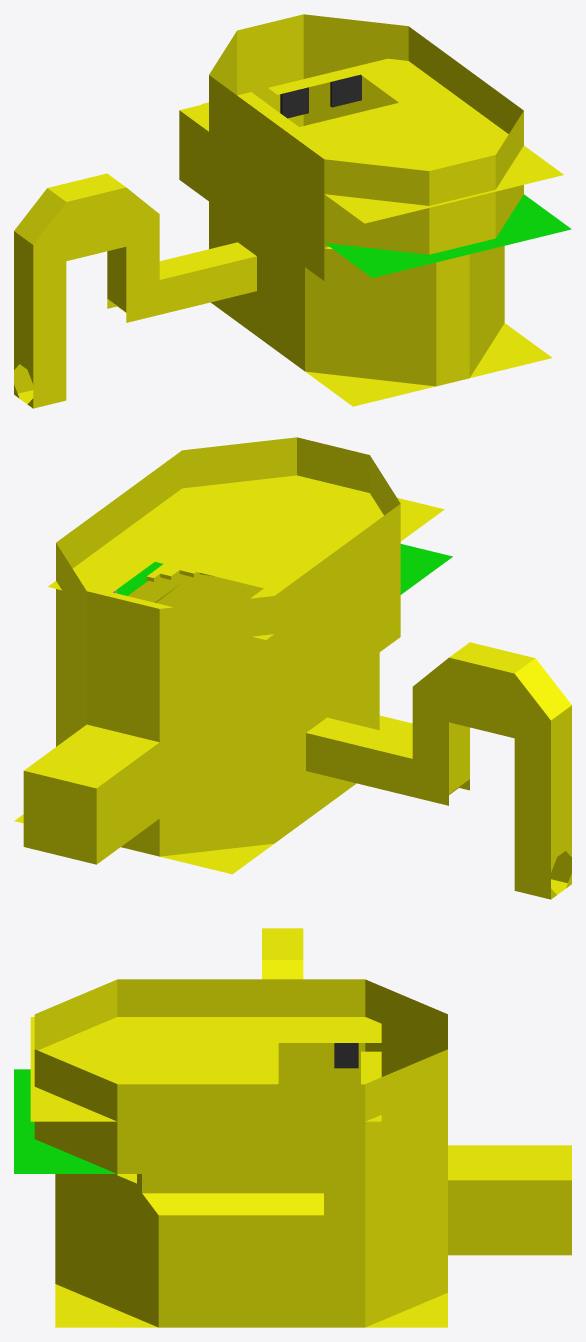
Rendered from ddd_segment7.0x0DE70.collision.obj.
3 views of the same model, one above another, from view 1: azimuth 30°, elevation 25°; view 2: azimuth 150°, elevation 25°; view 3: azimuth 270°, elevation 25° (orthographic). The views are drawn at different scales.
Parts seen in each view (by area): view 1: ddd_segment7_0DE70_normal, ddd_segment7_0DE70_grass, ddd_segment7_0DE70_fence; view 2: ddd_segment7_0DE70_normal, ddd_segment7_0DE70_grass; view 3: ddd_segment7_0DE70_normal, ddd_segment7_0DE70_grass, ddd_segment7_0DE70_fence.
Part boxes in pixels (left/top/right/bottom): ddd_segment7_0DE70_normal: left=14, top=14, right=563, bottom=408; ddd_segment7_0DE70_grass: left=325, top=194, right=571, bottom=277; ddd_segment7_0DE70_fence: left=280, top=74, right=361, bottom=118; ddd_segment7_0DE70_normal: left=14, top=437, right=571, bottom=899; ddd_segment7_0DE70_grass: left=117, top=544, right=452, bottom=595; ddd_segment7_0DE70_normal: left=30, top=928, right=571, bottom=1327; ddd_segment7_0DE70_grass: left=14, top=1069, right=116, bottom=1173; ddd_segment7_0DE70_fence: left=334, top=1043, right=358, bottom=1068.
Bounding box in the file's own units: 12.72 × 7.01 × 13.5.
